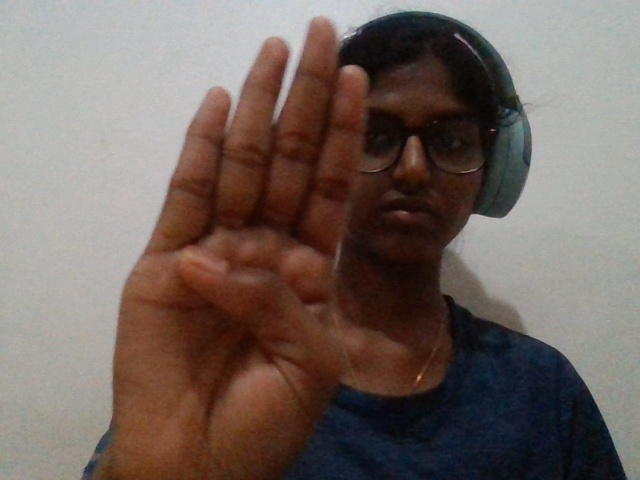B: (105, 4, 359, 480)
